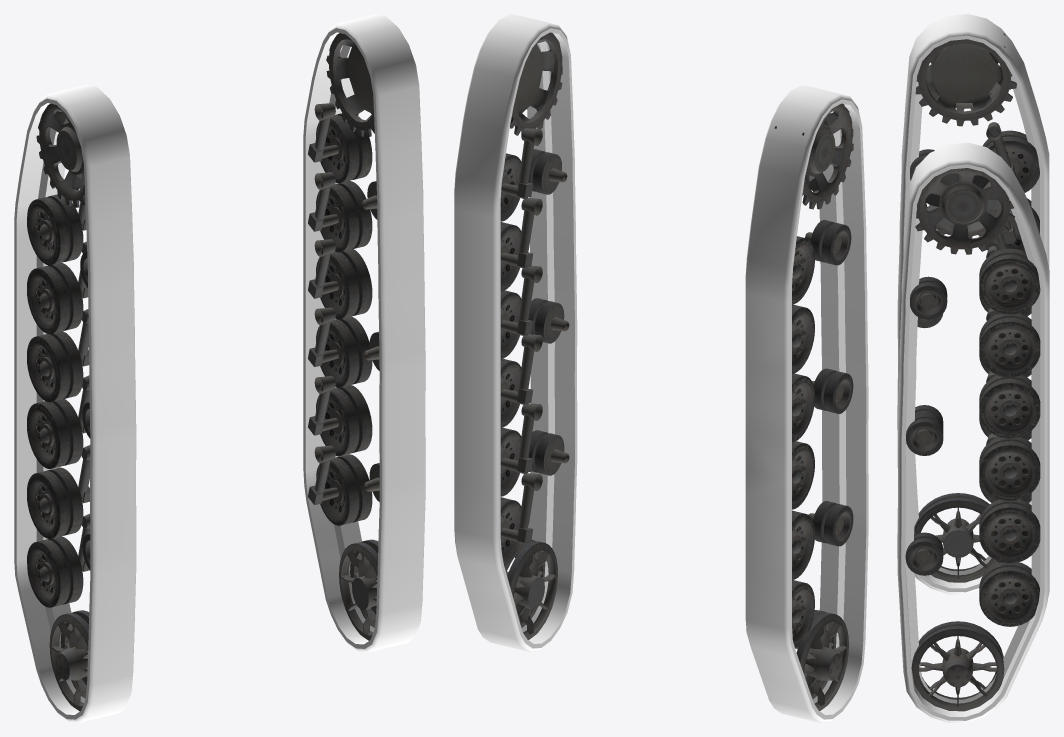
File: Chassis.glb
3 views of the same model, side by side, from view 1: azimuth 30°, elevation 25°; view 2: azimuth 150°, elevation 25°; view 3: azimuth 270°, elevation 25° (orthographic). The views are drawn at different scales.
Parts seen in each view (by area): view 1: set_0_group_0, set_1_group_0, set_3_group_0, set_2_group_0; view 2: set_0_group_0, set_1_group_0, set_3_group_0, set_2_group_0; view 3: set_3_group_0, set_1_group_0, set_2_group_0, set_0_group_0.
Boxes of the visible parts, x1,y1,x2,y2 form: set_0_group_0: (14,84,136,722); set_1_group_0: (303,14,425,652); set_3_group_0: (308,33,379,640); set_2_group_0: (27,103,90,711); set_0_group_0: (745,85,868,722); set_1_group_0: (454,14,577,651); set_3_group_0: (500,32,569,639); set_2_group_0: (774,103,853,710); set_3_group_0: (905,168,1040,711); set_1_group_0: (897,142,1049,722); set_2_group_0: (910,33,1039,582); set_0_group_0: (897,14,1049,594).
Bounding box in the file's own units: 2.92 × 5.13 × 1.25.
4 materials, 2 textured.
